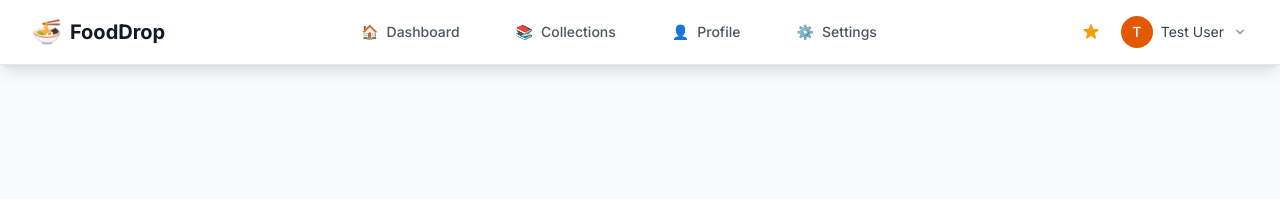
Scenario: MainNavigation › shows user dropdown menu when clicked
The width and height of the screenshot is (1280, 199).
Click the button "T Test User" at (1184, 32), box [1121,16,1248,48]
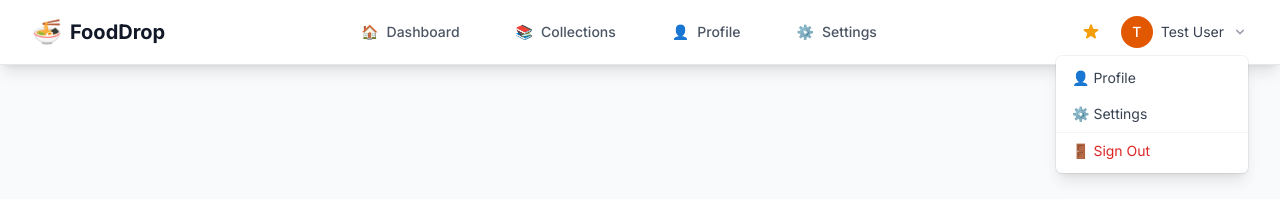
Check: the 2nd link "👤 Profile" is shown, box [1072,69,1136,86]
Check: the 2nd link "⚙️ Settings" is shown, box [1072,105,1147,122]
Check: the button "🚪 Sign Out" is shown, box [1056,133,1248,169]
